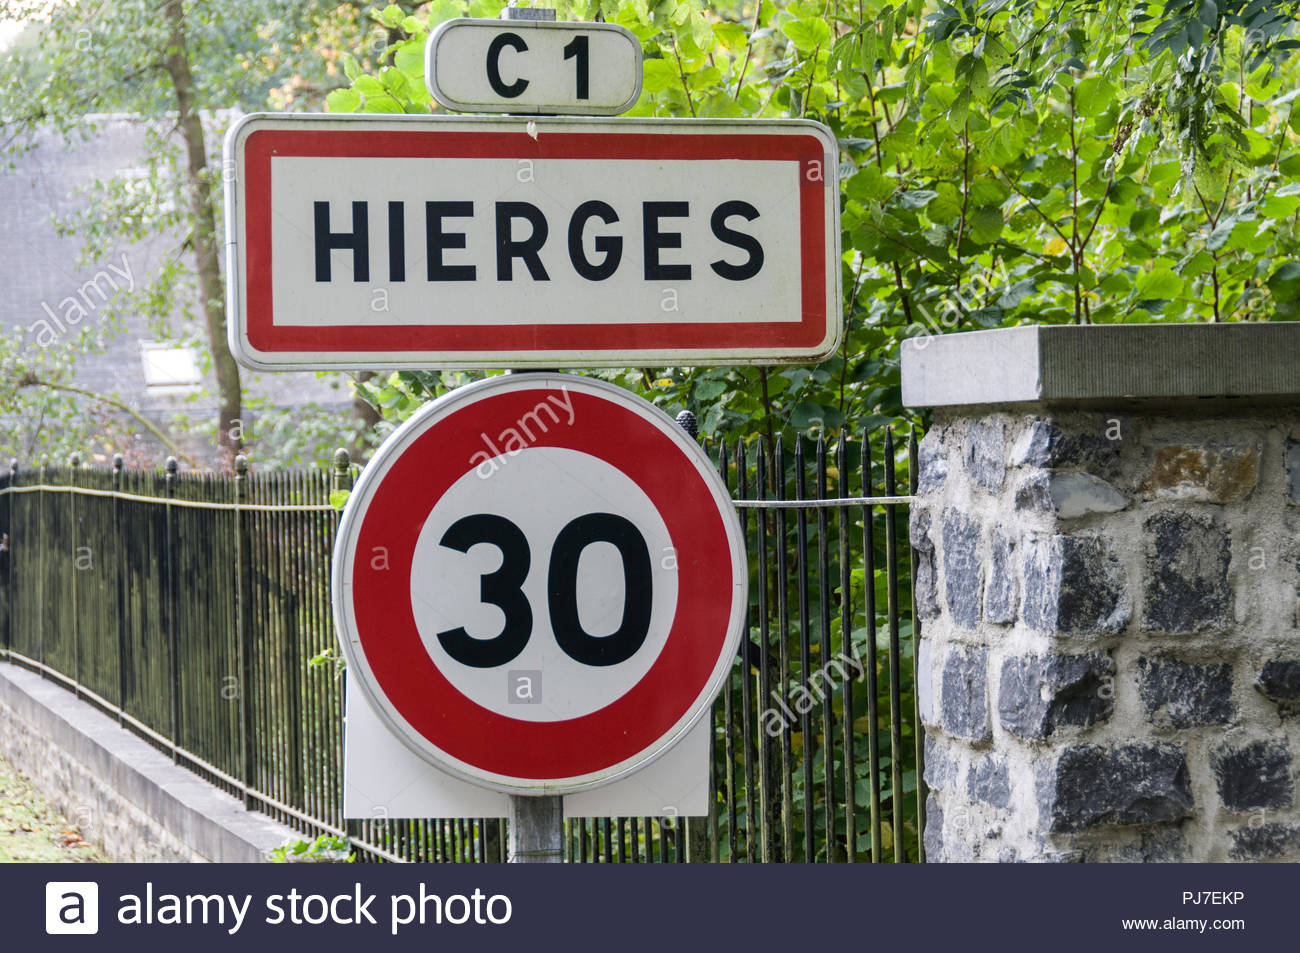speed_limit_30: (354, 385, 747, 785)
